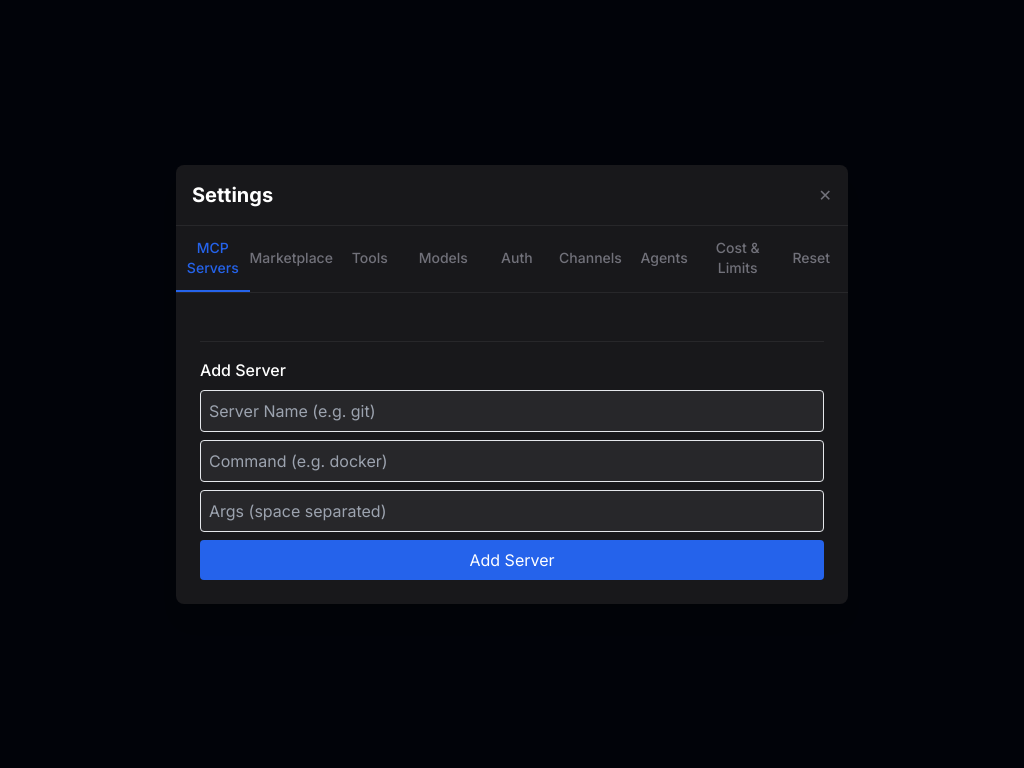
Settings Component › switches tabs
Find tab buttons
Step 1. Click the button "Tools" → point(370, 258), box [333,226,406,292]
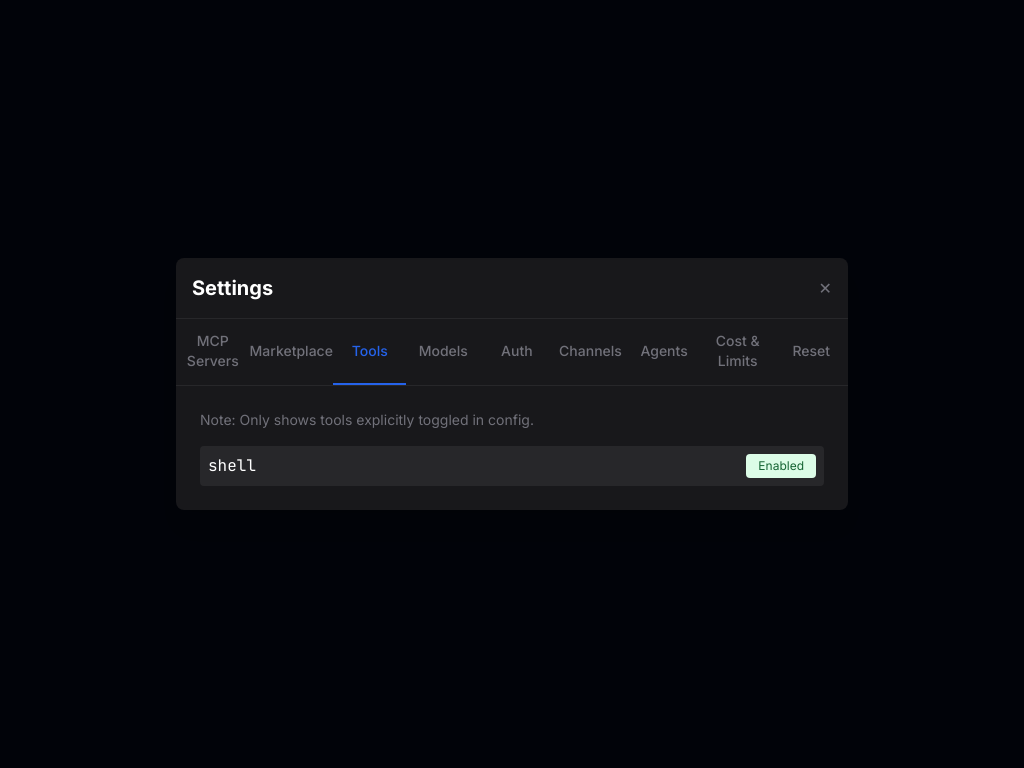
Expected: the text "Note: Only shows tools explicitly toggled in config." is shown, [200,411,534,428]
